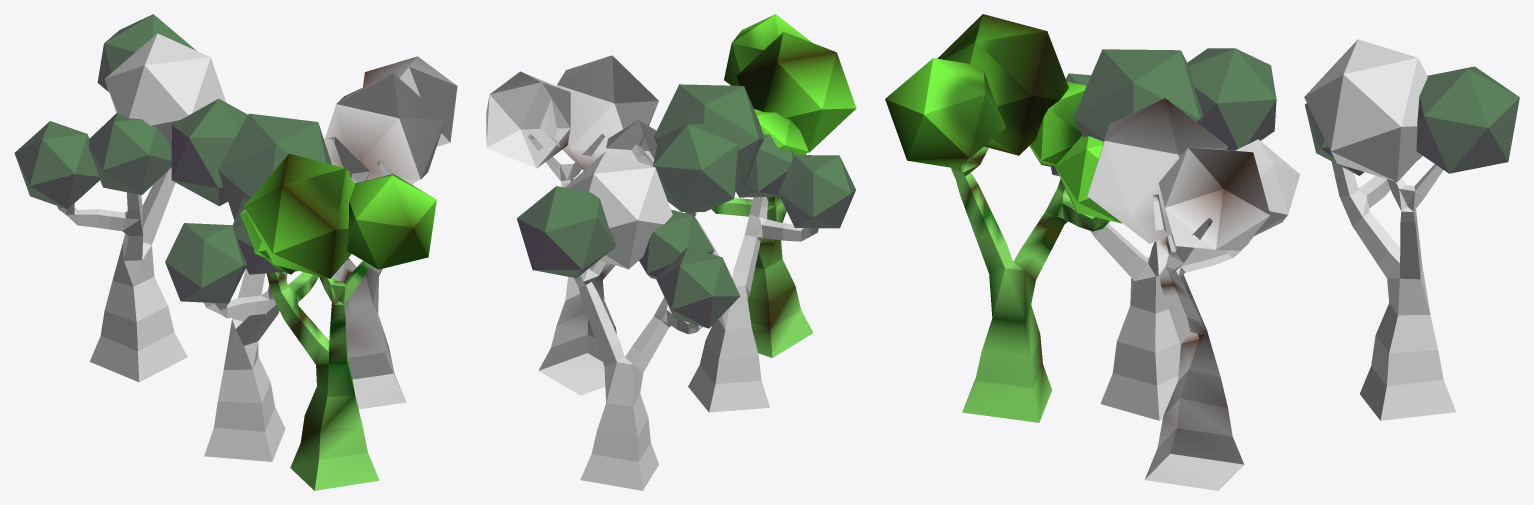
Rendered from this.gltf.
3 views of the same model, side by side, from view 1: azimuth 30°, elevation 25°; view 2: azimuth 150°, elevation 25°; view 3: azimuth 270°, elevation 25° (orthographic). The views are drawn at different scales.
Visible parts, largest first — view 1: Icosphere.004, Icosphere.002, Cube.001, Cube.002, Icosphere.005, Icosphere.008, Icosphere.010, Icosphere.009, Icosphere.007, Icosphere.001, Icosphere.006, Icosphere.003; view 2: Icosphere.002, Icosphere.004, Cube.001, Cube.002, Icosphere.006, Icosphere.005, Icosphere.009, Icosphere.008, Icosphere.010, Icosphere.007, Icosphere.001, Icosphere.003; view 3: Icosphere.004, Icosphere.002, Cube.001, Icosphere.005, Cube.002, Icosphere.006, Icosphere.008, Icosphere.009, Icosphere.001.
Boxes of the visible parts, bbox=[...] form: Icosphere.004: bbox=[240, 153, 436, 490]; Icosphere.002: bbox=[324, 56, 457, 409]; Cube.001: bbox=[57, 167, 187, 382]; Cube.002: bbox=[203, 268, 287, 461]; Icosphere.005: bbox=[104, 33, 226, 148]; Icosphere.008: bbox=[218, 113, 331, 219]; Icosphere.010: bbox=[165, 223, 246, 303]; Icosphere.009: bbox=[171, 98, 247, 206]; Icosphere.007: bbox=[14, 121, 99, 209]; Icosphere.001: bbox=[89, 113, 171, 194]; Icosphere.006: bbox=[97, 14, 196, 92]; Icosphere.003: bbox=[232, 198, 297, 274]; Icosphere.002: bbox=[486, 55, 658, 395]; Icosphere.004: bbox=[656, 14, 856, 357]; Cube.001: bbox=[574, 260, 702, 490]; Cube.002: bbox=[685, 197, 818, 412]; Icosphere.006: bbox=[517, 186, 616, 278]; Icosphere.005: bbox=[565, 151, 672, 269]; Icosphere.009: bbox=[653, 124, 739, 211]; Icosphere.008: bbox=[654, 84, 764, 191]; Icosphere.010: bbox=[778, 155, 855, 228]; Icosphere.007: bbox=[656, 247, 740, 328]; Icosphere.001: bbox=[639, 209, 714, 279]; Icosphere.003: bbox=[736, 134, 794, 197]; Icosphere.004: bbox=[885, 14, 1121, 422]; Icosphere.002: bbox=[1087, 98, 1300, 490]; Cube.001: bbox=[1331, 161, 1455, 420]; Icosphere.005: bbox=[1304, 39, 1427, 181]; Cube.002: bbox=[1090, 223, 1180, 420]; Icosphere.006: bbox=[1416, 66, 1519, 173]; Icosphere.008: bbox=[1073, 49, 1203, 141]; Icosphere.009: bbox=[1187, 48, 1276, 150]; Icosphere.001: bbox=[1305, 103, 1364, 175].
Bounding box in the file's own units: 6.34 × 5.74 × 8.87.
Materials: 2 (1 with a texture image).
